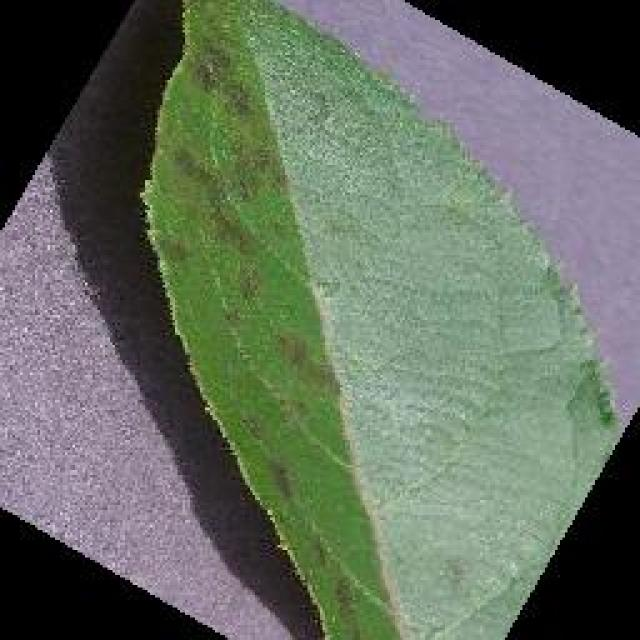apple scab disease: (135, 0, 627, 638)
